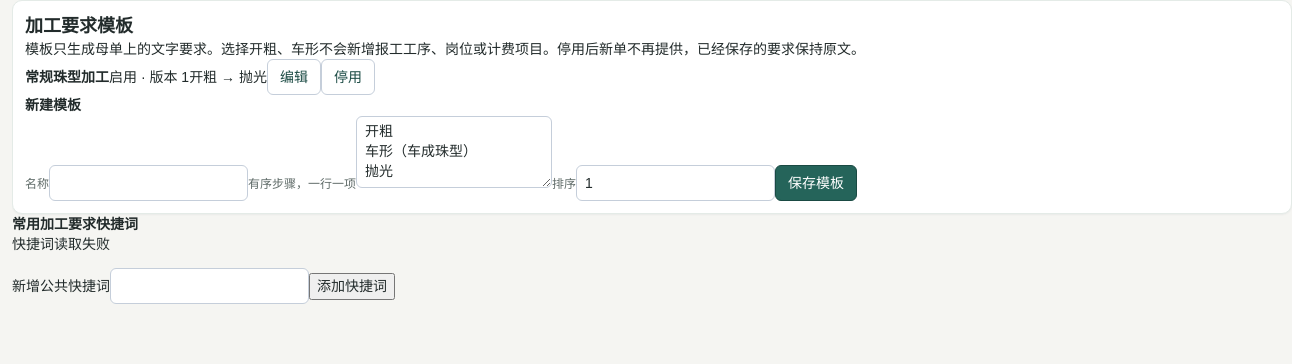
加工要求模板维护 › 停用进行中不会再次提交
Click the button "停用": (348, 77) left=321, top=59, right=375, bottom=95
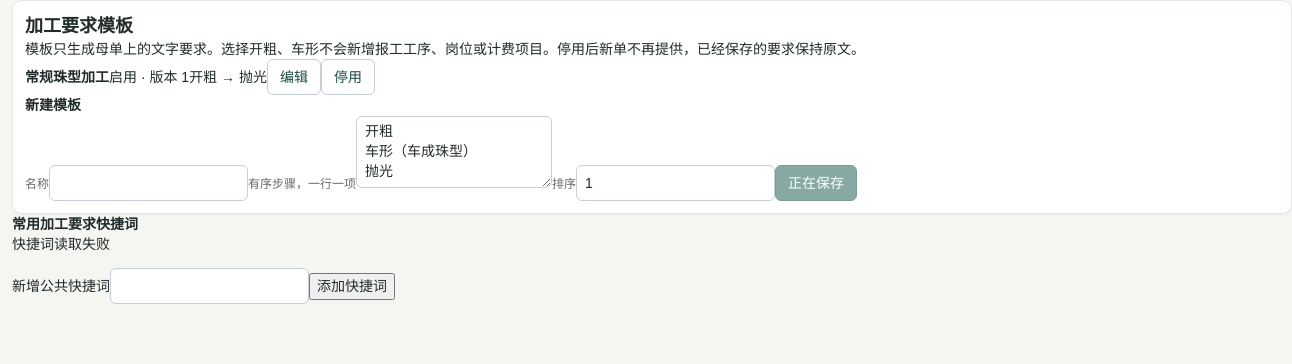
Click the button "停用": (348, 77) left=321, top=59, right=375, bottom=95
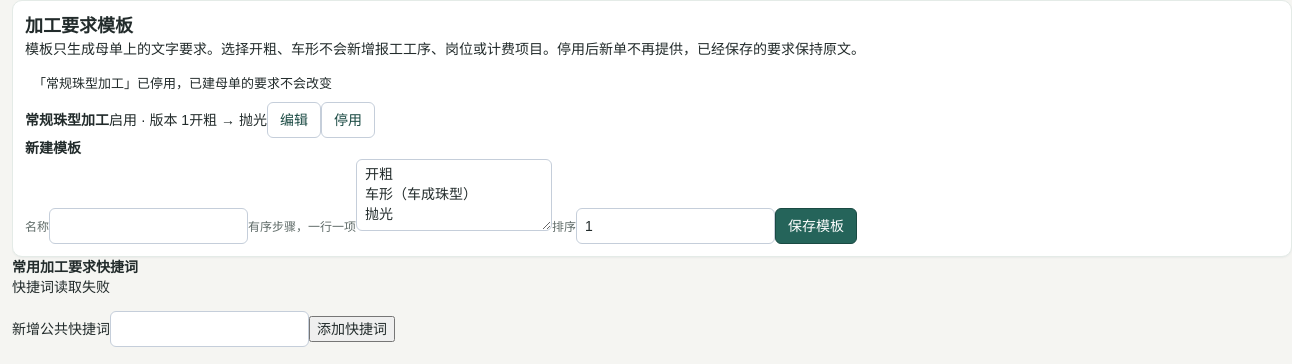
Expected: the text "已建母单的要求不会改变" is shown, left=33, top=76, right=332, bottom=91
